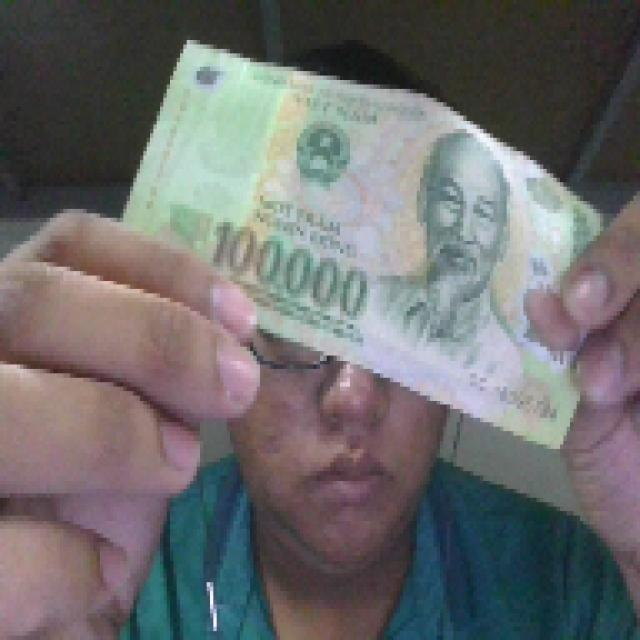100 000 VND: (113, 31, 610, 458)
